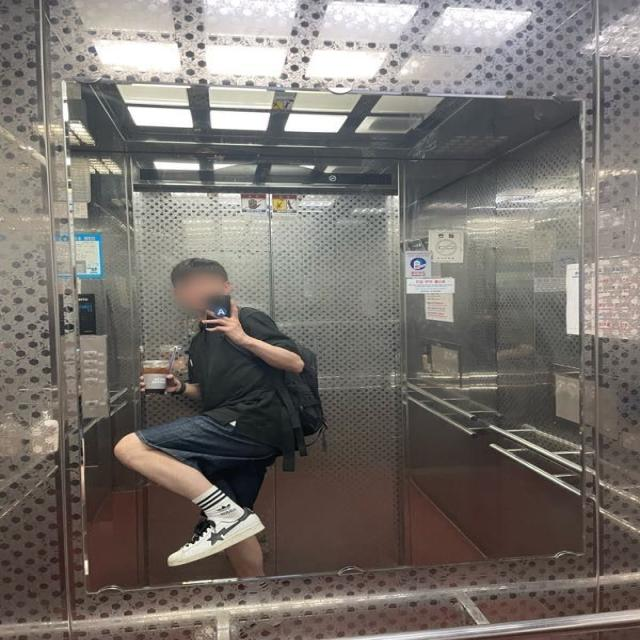shortpants: (138, 407, 282, 514)
shortsleeve: (184, 300, 301, 444)
